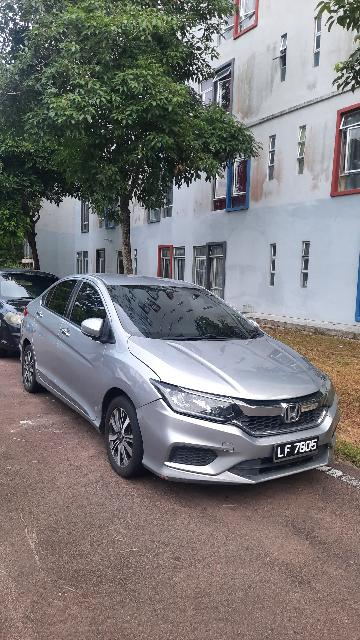License_Plate: (271, 433, 326, 470)
car: (23, 266, 338, 494)
